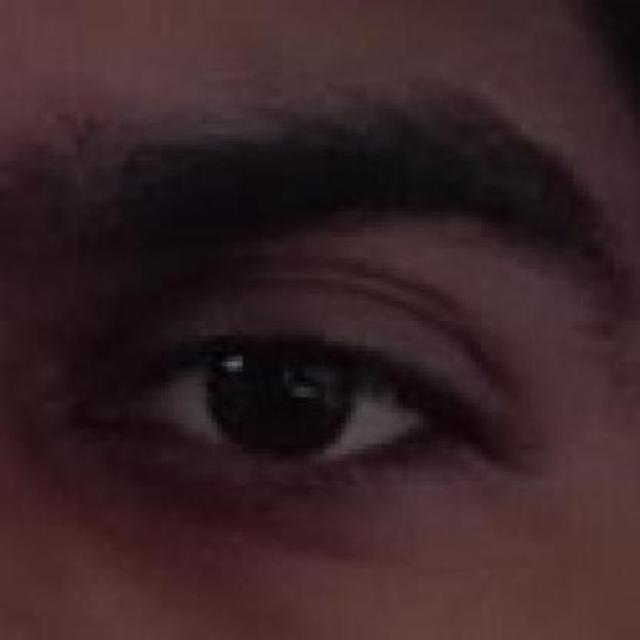awake: (74, 278, 472, 512)
